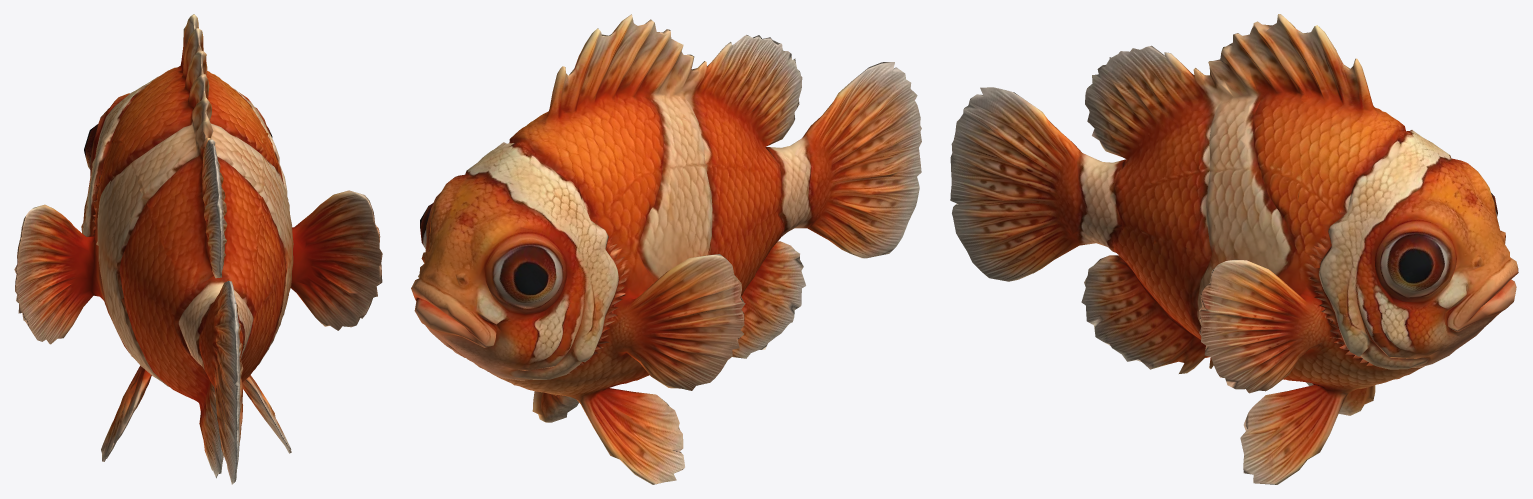
File: fisch.glb
3 renders of one model, left to right at view 1: azimuth 30°, elevation 25°; view 2: azimuth 150°, elevation 25°; view 3: azimuth 270°, elevation 25°, orthographic.
Parts seen in each view (by area): view 1: tripo_node_1116ddf9-1733-4fad-af65-dcbb3b06f0a4; view 2: tripo_node_1116ddf9-1733-4fad-af65-dcbb3b06f0a4; view 3: tripo_node_1116ddf9-1733-4fad-af65-dcbb3b06f0a4.
Part boxes in pixels (<box>): tripo_node_1116ddf9-1733-4fad-af65-dcbb3b06f0a4: <box>14,14,382,484</box>; tripo_node_1116ddf9-1733-4fad-af65-dcbb3b06f0a4: <box>411,14,921,484</box>; tripo_node_1116ddf9-1733-4fad-af65-dcbb3b06f0a4: <box>950,14,1518,484</box>.
Bounding box in the file's own units: 0.1416 × 0.2 × 0.239.
Materials: 1 (1 with a texture image).
